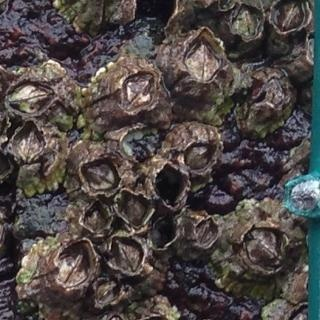Barnacle: (56, 240, 95, 289), (183, 36, 220, 84), (246, 229, 283, 271), (10, 82, 52, 118), (122, 71, 156, 111), (233, 4, 262, 44), (12, 126, 44, 160), (118, 192, 148, 228), (113, 238, 143, 272), (86, 159, 118, 190), (82, 199, 110, 234), (274, 0, 303, 30), (185, 144, 216, 172), (197, 214, 218, 244)
